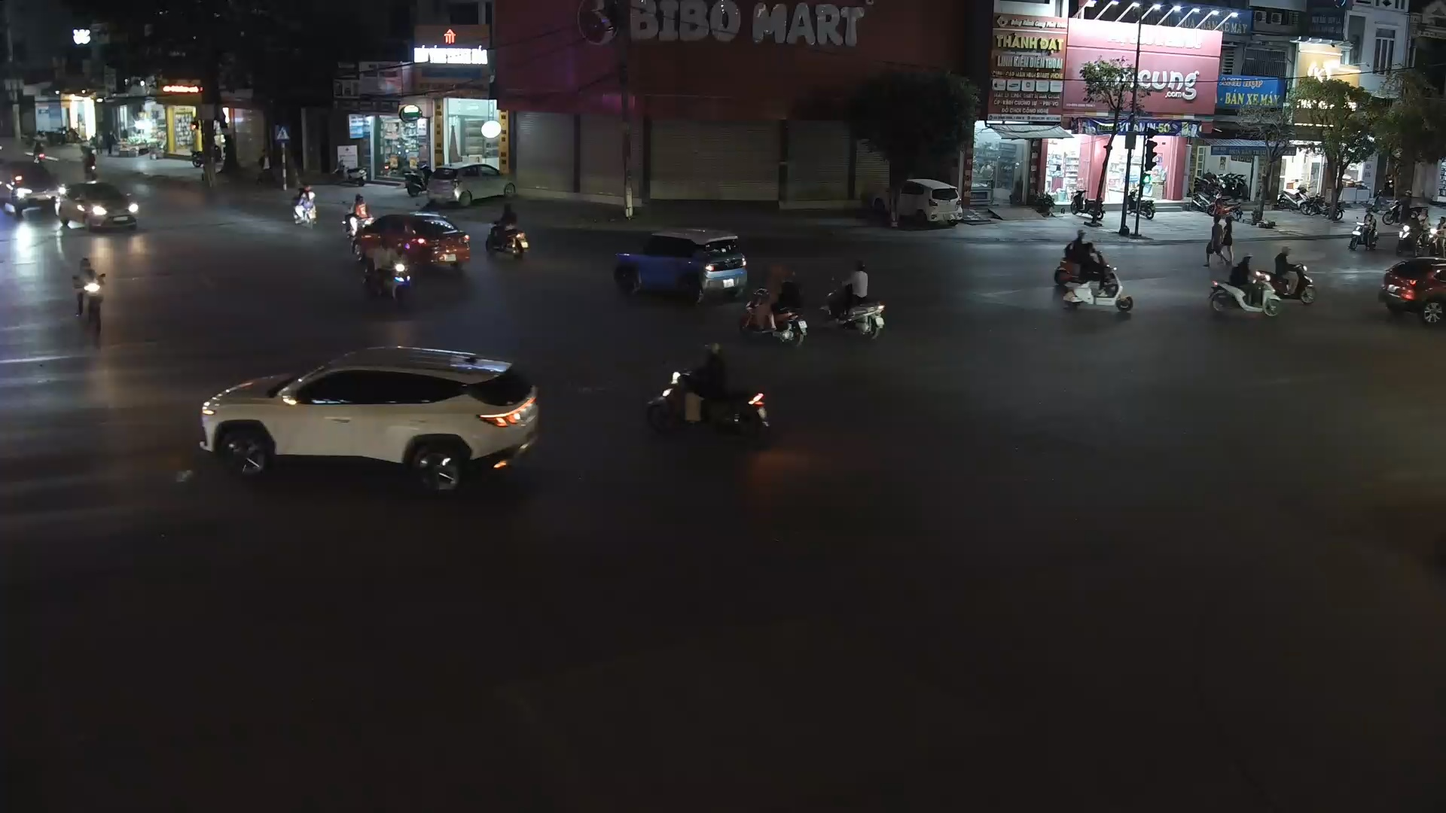car: (198, 344, 541, 488), (612, 227, 751, 302), (354, 209, 472, 278), (56, 177, 141, 239), (1377, 252, 1445, 327), (0, 157, 67, 221)
motorbike: (642, 339, 774, 445), (1051, 228, 1133, 315), (1207, 248, 1285, 322), (821, 258, 889, 339), (740, 270, 809, 347), (69, 239, 111, 336), (1262, 242, 1318, 305), (483, 203, 530, 261)
